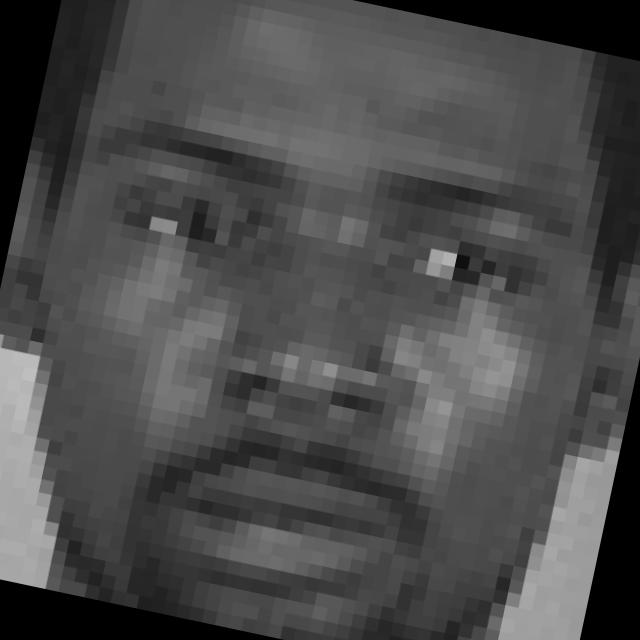neutral: (7, 91, 586, 640)
